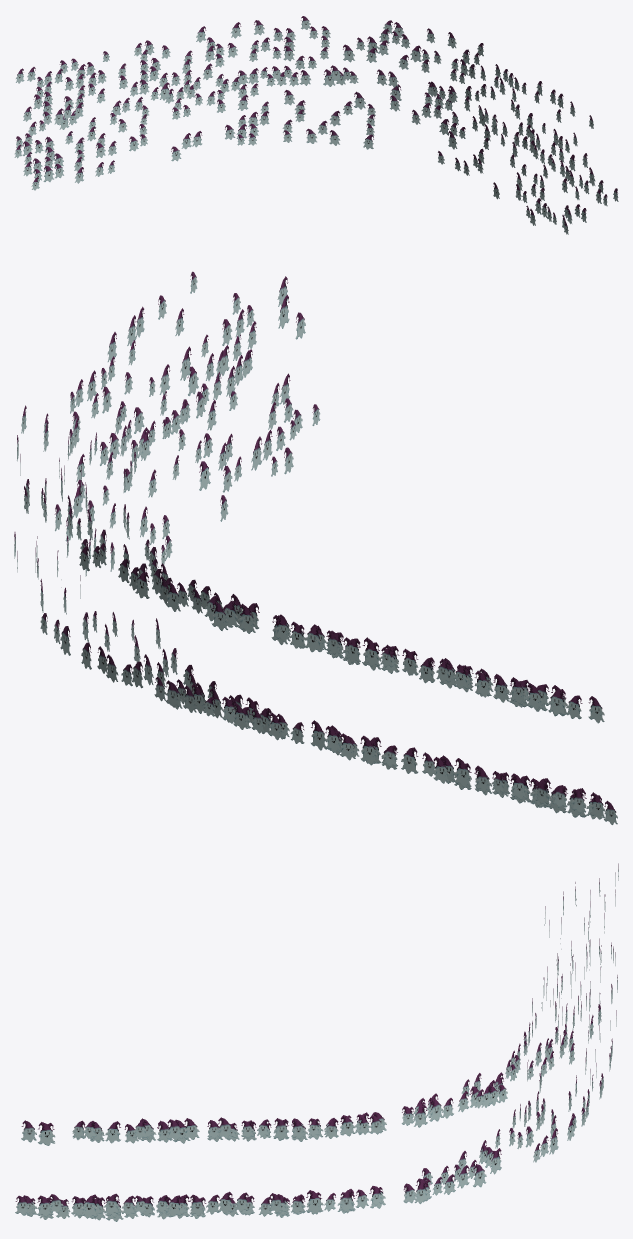
Rendered from fansZ1.fbx.
3 views of the same model, one above another, from view 1: azimuth 30°, elevation 25°; view 2: azimuth 150°, elevation 25°; view 3: azimuth 270°, elevation 25° (orthographic). The views are drawn at different scales.
Parts seen in each view (by area): view 1: fansZ1; view 2: fansZ1; view 3: fansZ1.
Boxes of the visible parts, x1,y1,x2,y2 form: fansZ1: [14, 16, 618, 234]; fansZ1: [14, 271, 617, 824]; fansZ1: [15, 863, 618, 1221].
Bounding box in the file's own units: 5974 × 1470 × 5629.
